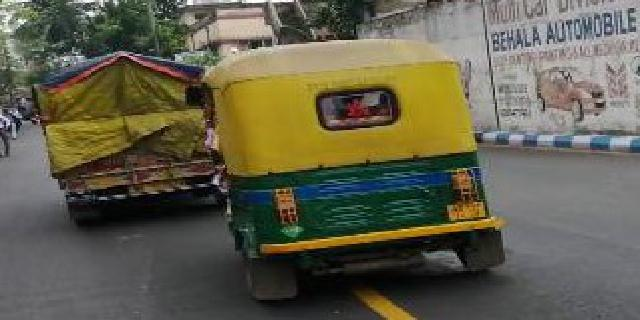Autorickshaw: (197, 40, 511, 304)
Minitruck: (32, 53, 213, 224)
